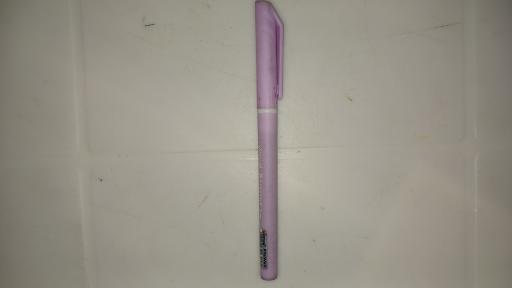pen: (254, 0, 284, 288)
